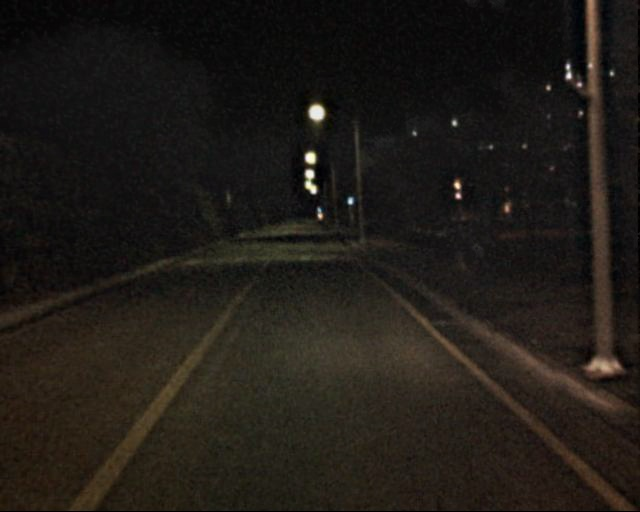person: (466, 213, 490, 272), (447, 214, 470, 271)
